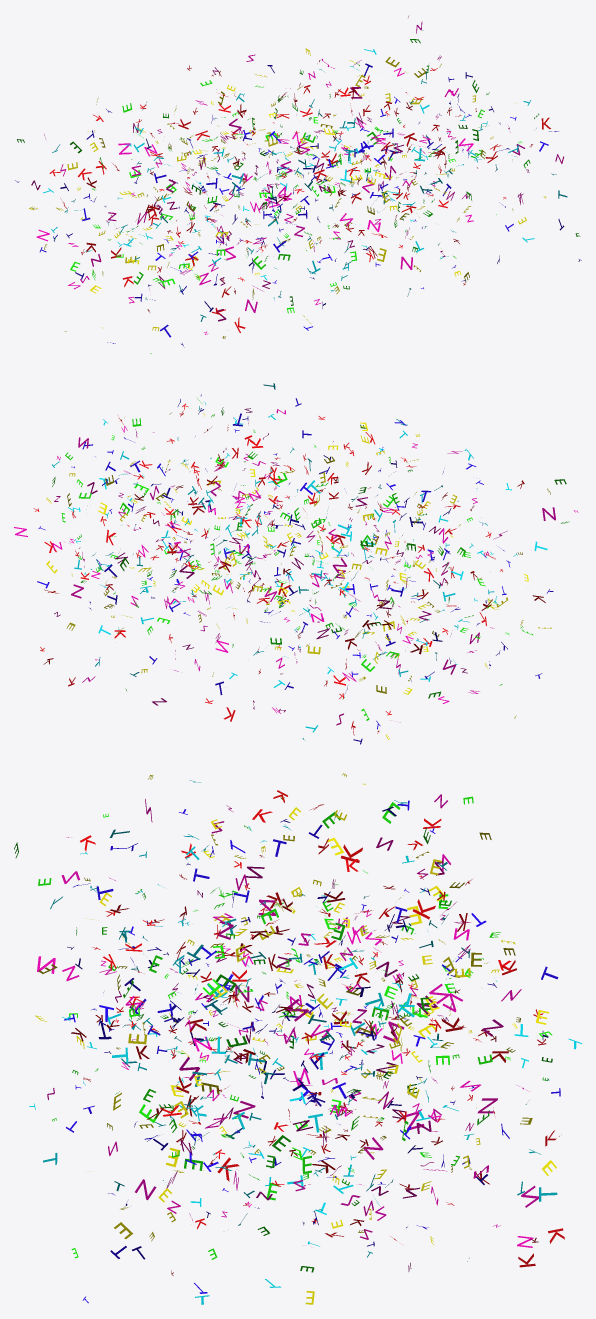
The model's file is allLettersKETNET.glb.
3 views of the same model, one above another, from view 1: azimuth 30°, elevation 25°; view 2: azimuth 150°, elevation 25°; view 3: azimuth 270°, elevation 25° (orthographic). The views are drawn at different scales.
Size of the model in its own units: 10.42 by 4.99 by 7.53.
